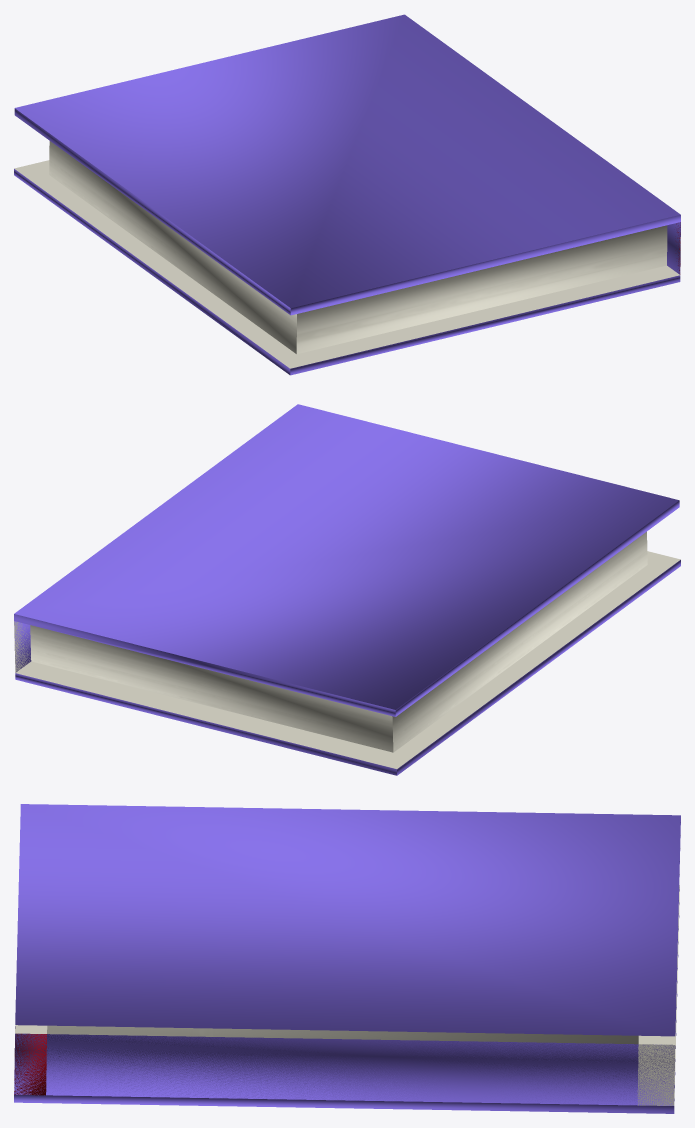
The model's file is Książka.fbx.
3 views of the same model, one above another, from view 1: azimuth 30°, elevation 25°; view 2: azimuth 150°, elevation 25°; view 3: azimuth 270°, elevation 25° (orthographic). The views are drawn at different scales.
Visible parts, largest first — view 1: Książki.001; view 2: Książki.001; view 3: Książki.001.
Part boxes in pixels (bbox=[...]): Książki.001: bbox=[14, 14, 680, 375]; Książki.001: bbox=[14, 404, 680, 775]; Książki.001: bbox=[14, 804, 680, 1113].
Bounding box in the file's own units: 46.4 × 8.37 × 58.
